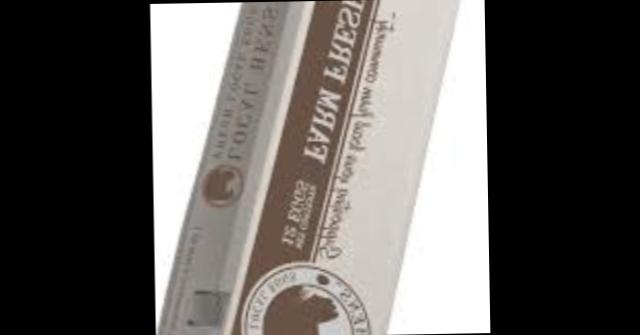cardboard paper: (155, 0, 462, 335)
